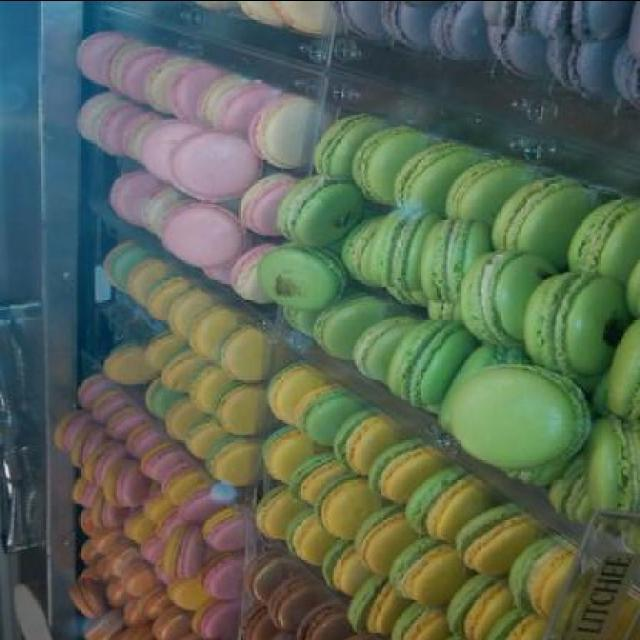Macaron: (49, 1, 638, 639)
